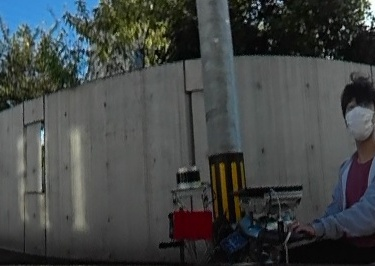person: (307, 73, 375, 266)
